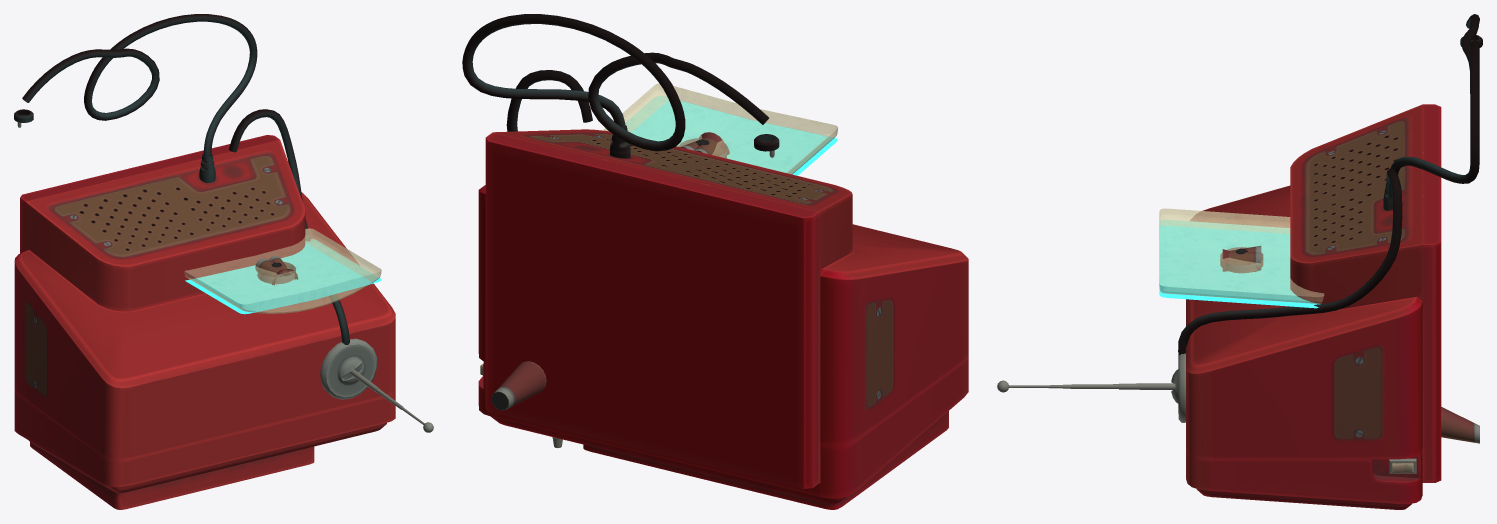
The model's file is cartoon-tv-92ac67.glb.
The picture shows the model from 3 angles, left to right: view 1: azimuth 30°, elevation 25°; view 2: azimuth 150°, elevation 25°; view 3: azimuth 270°, elevation 25°; orthographic projection. The views are drawn at different scales.
Visible parts, largest first — view 1: PropMesh; view 2: PropMesh; view 3: PropMesh.
Boxes of the visible parts, x1,y1,x2,y2 form: PropMesh: (14,14,433,509); PropMesh: (462,14,968,509); PropMesh: (997,14,1482,509).
Bounding box in the file's own units: 1.81 × 2.2 × 2.32.
2 materials, 2 textured.
